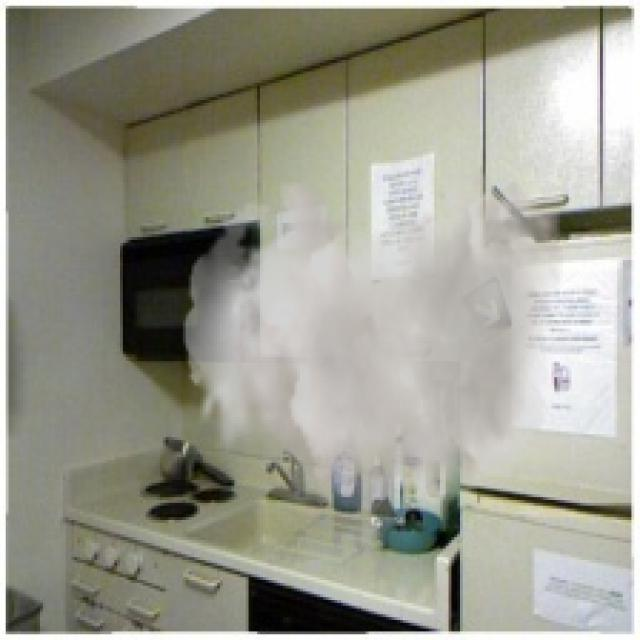smoke: (183, 166, 566, 557)
